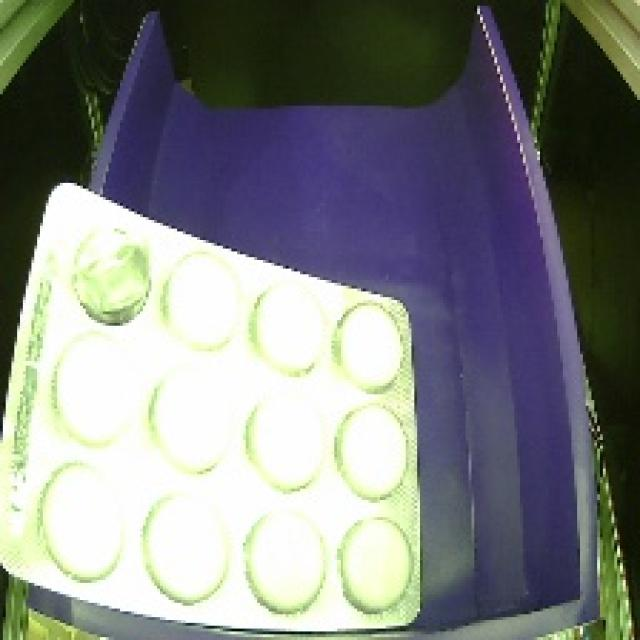med_plate: (0, 165, 437, 640)
